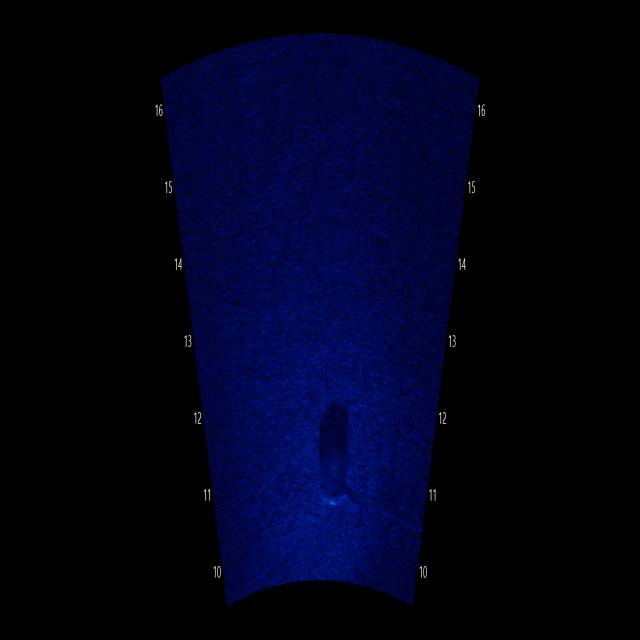circle: (317, 436, 351, 504)
